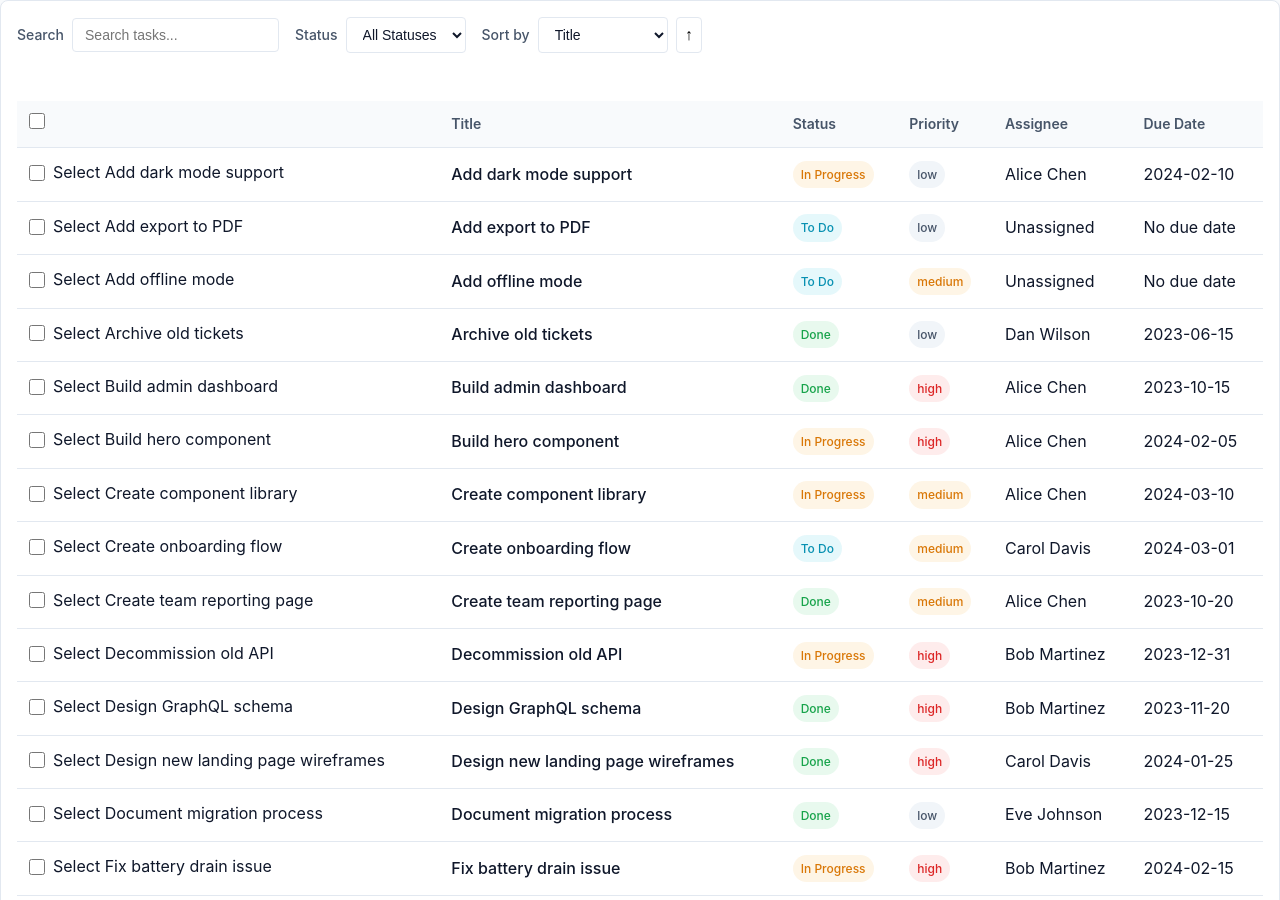
Test: TaskTable › shows empty state when no tasks match filters
The width and height of the screenshot is (1280, 900).
In the search field named "Search tasks": (176, 35) [72, 18, 279, 52], type "xyznonexistent"
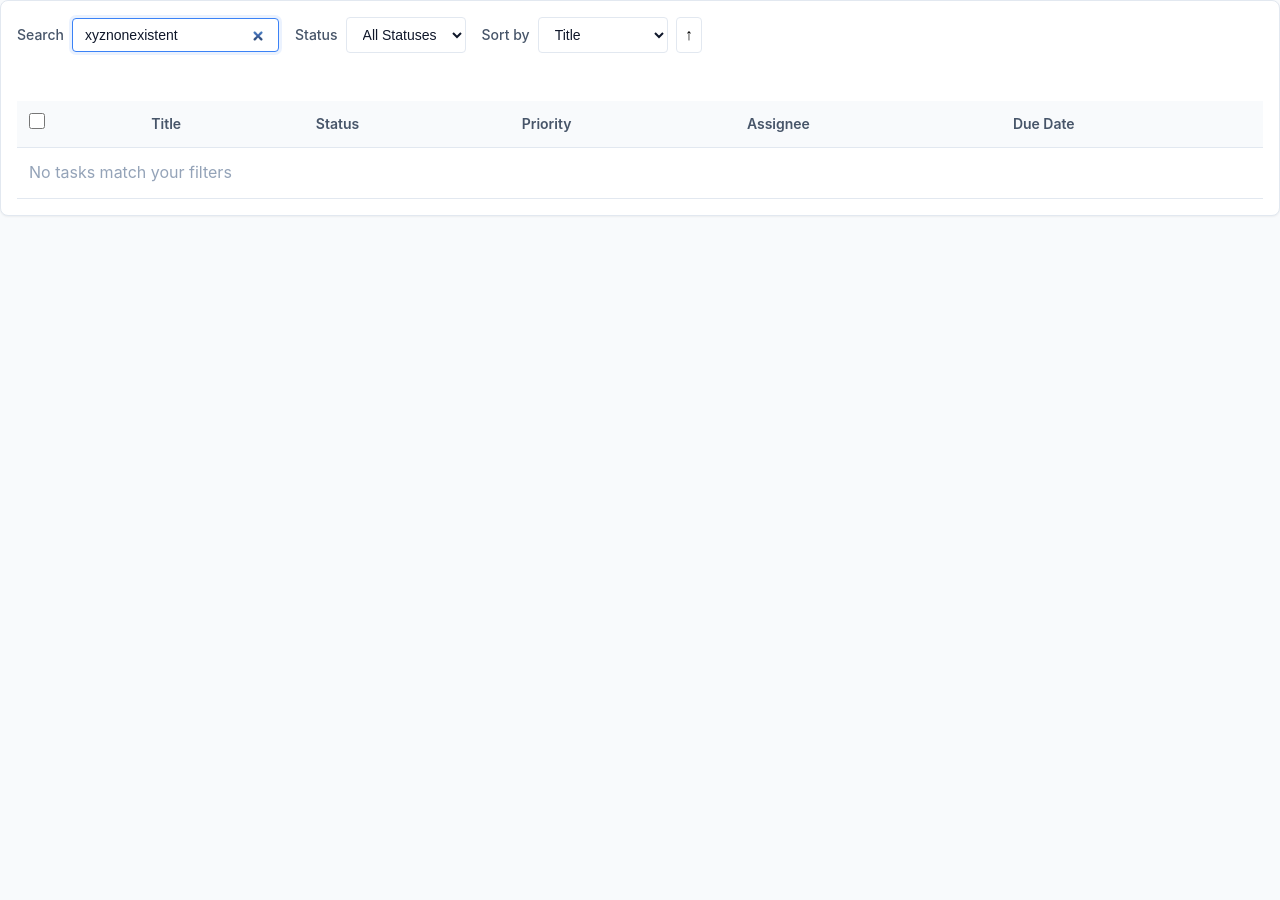
Result: the text "No tasks match your filters" is shown at [17, 148, 1263, 198]
